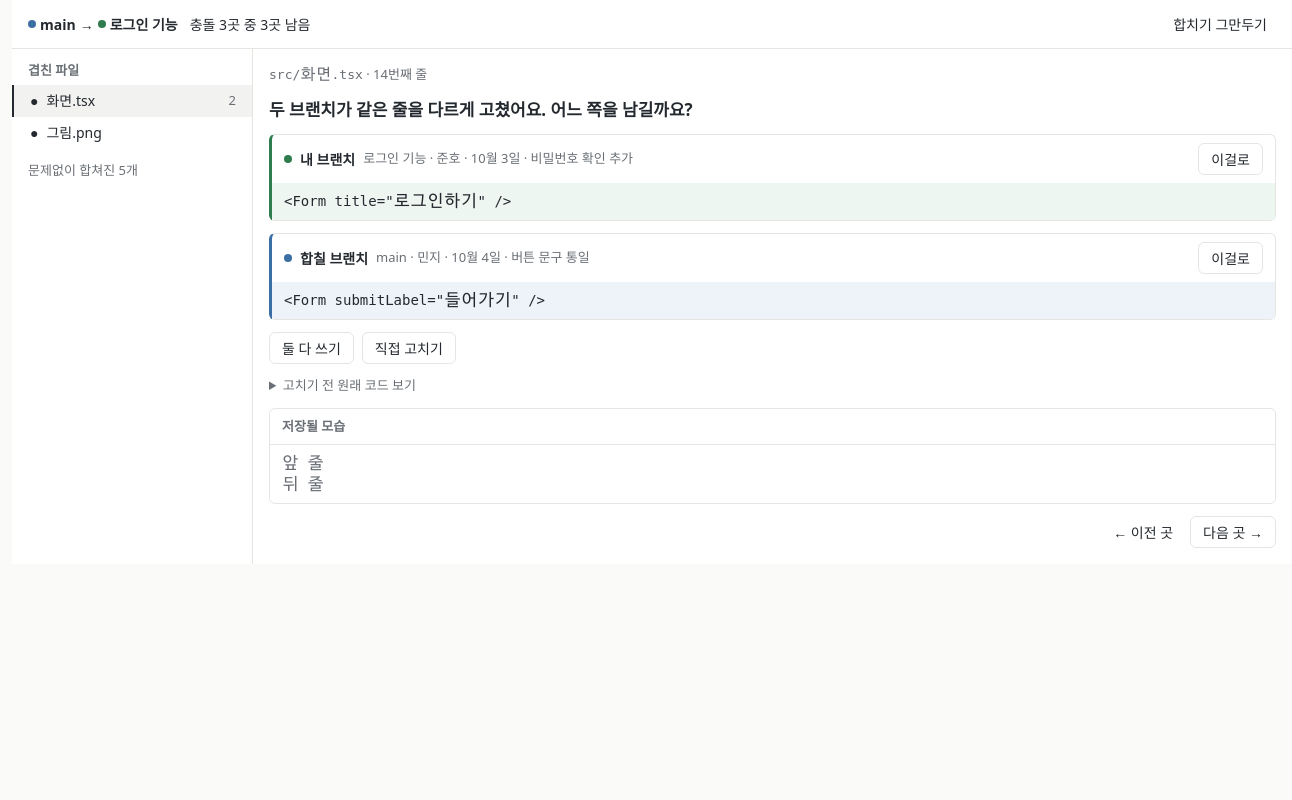
Test case: 충돌 해결 화면 › 고르면 저장될 모습이 바뀌고, 1·2 키로도 고른다
The image size is (1292, 800).
Expected: the text "<Form title=\"로그인하기\" />" is shown, [272,183,1275,220]
Click the button "이걸로" in the row of "main · 민지 · 10월 4일 · 버튼 문구 통일": {"x": 1231, "y": 258} [1198,242,1263,274]
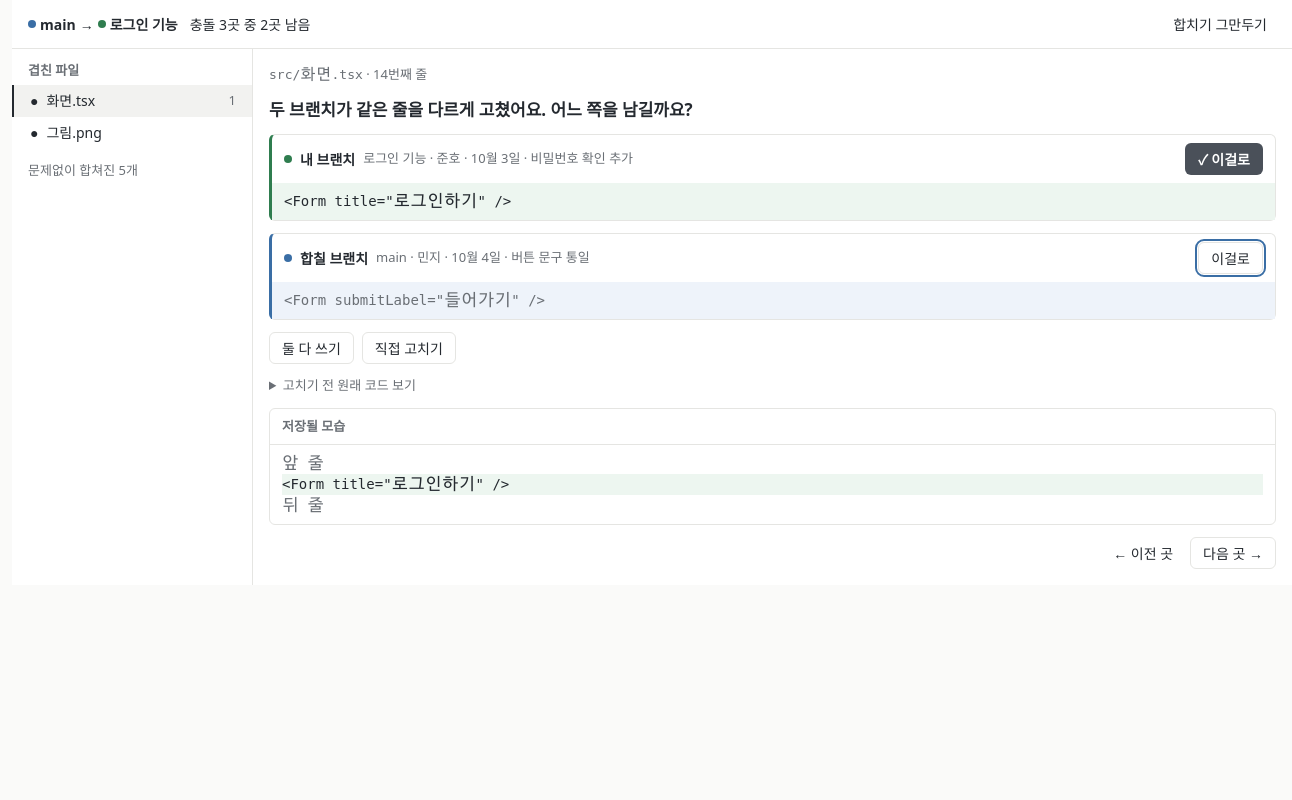
Expected: the text "<Form submitLabel=\"들어가기\" />" below "앞 줄" is shown, [282,474,1263,495]
Result: the text "충돌 3곳 중 2곳 남음" is shown at [190,14,310,34]
Result: the text "<Form title=\"로그인하기\" />" below "앞 줄" is shown at [282,476,509,492]
